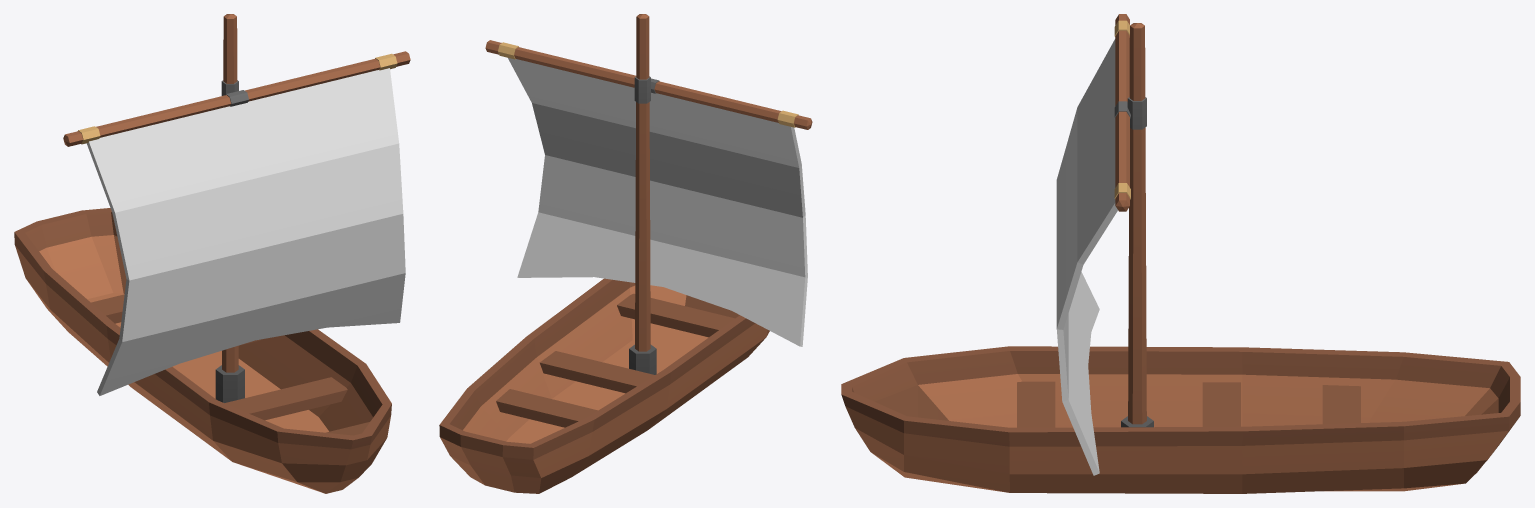
Rendered from boat-3.glb.
3 renders of one model, left to right at view 1: azimuth 30°, elevation 25°; view 2: azimuth 150°, elevation 25°; view 3: azimuth 270°, elevation 25°, orthographic. The views are drawn at different scales.
Visible parts, largest first — view 1: boat 3; view 2: boat 3; view 3: boat 3.
Part boxes in pixels (<box>): boat 3: <box>14,14,410,493</box>; boat 3: <box>439,14,812,493</box>; boat 3: <box>841,14,1520,493</box>.
Bounding box in the file's own units: 4.23 × 4.86 × 6.46.
Materials: 1 (1 with a texture image).
